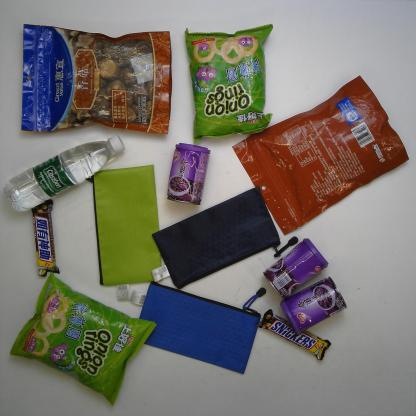Canned Food: (279, 273, 354, 336), (262, 237, 331, 301), (164, 140, 212, 209)
Chocolate: (256, 307, 332, 362), (27, 193, 60, 279)
Dried Food: (230, 73, 411, 235), (16, 22, 174, 140)
Drink: (1, 132, 126, 216)
Puffed Food: (6, 272, 158, 410), (182, 21, 275, 144)
Stationery: (149, 184, 301, 291), (127, 279, 267, 378), (81, 161, 164, 304)
